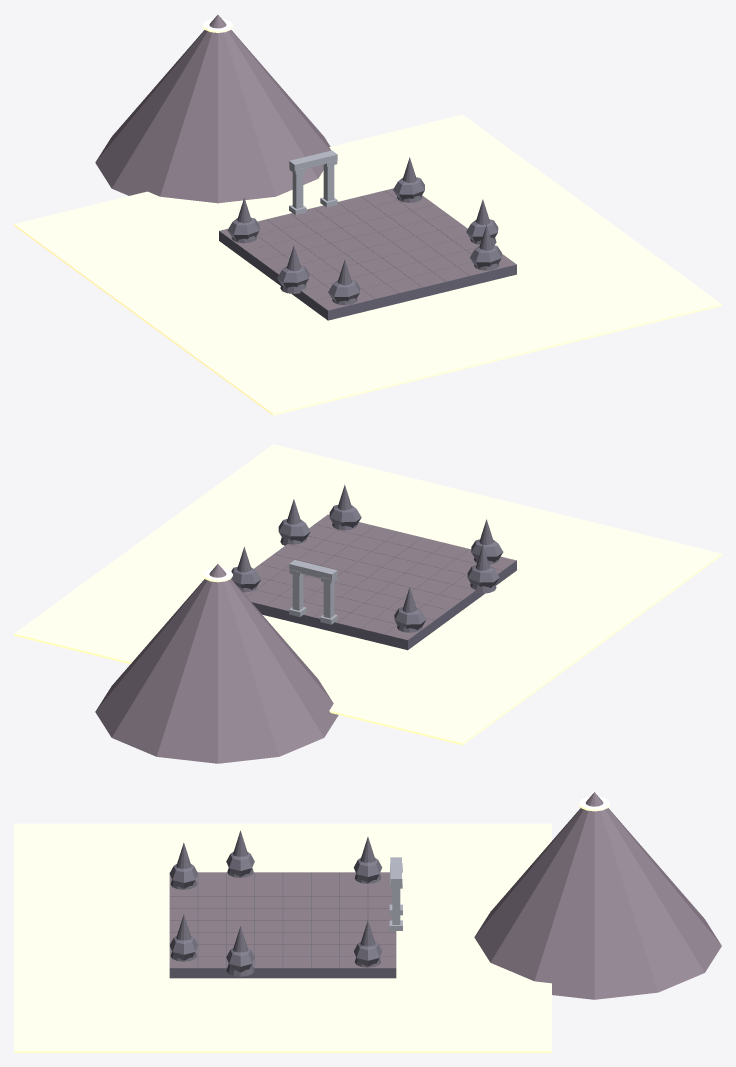
File: 05_Lava.glb
The picture shows the model from 3 angles, top to bottom: view 1: azimuth 30°, elevation 25°; view 2: azimuth 150°, elevation 25°; view 3: azimuth 270°, elevation 25°; orthographic projection. The views are drawn at different scales.
Parts seen in each view (by area): view 1: lava_sea, volcano, Arena_Base; view 2: lava_sea, volcano, Arena_Base, stone_arch_84, basalt_rock_72, basalt_rock_66, basalt_rock_70, basalt_rock_76; view 3: lava_sea, volcano, Arena_Base, basalt_rock_72, basalt_rock_66, basalt_rock_68, basalt_rock_74, basalt_rock_76, basalt_rock_70, basalt_spire.
Boxes of the visible parts, <box> form: lava_sea: <box>14,114,721,415</box>; volcano: <box>95,15,330,203</box>; Arena_Base: <box>219,191,516,320</box>; lava_sea: <box>14,444,721,744</box>; volcano: <box>95,564,338,763</box>; Arena_Base: <box>247,521,516,650</box>; stone_arch_84: <box>289,560,337,580</box>; basalt_rock_72: <box>278,519,310,541</box>; basalt_rock_66: <box>394,607,426,630</box>; basalt_rock_70: <box>467,565,499,588</box>; basalt_rock_76: <box>329,505,361,527</box>; lava_sea: <box>14,823,551,1052</box>; volcano: <box>474,792,721,999</box>; Arena_Base: <box>169,872,396,978</box>; basalt_rock_72: <box>226,947,254,972</box>; basalt_rock_66: <box>353,858,382,882</box>; basalt_rock_68: <box>353,941,382,966</box>; basalt_rock_74: <box>169,864,197,888</box>; basalt_rock_76: <box>169,935,198,960</box>; basalt_rock_70: <box>226,852,254,876</box>; basalt_spire: <box>226,926,254,976</box>.
Size of the model in its own units: 38 by 12 by 50.
